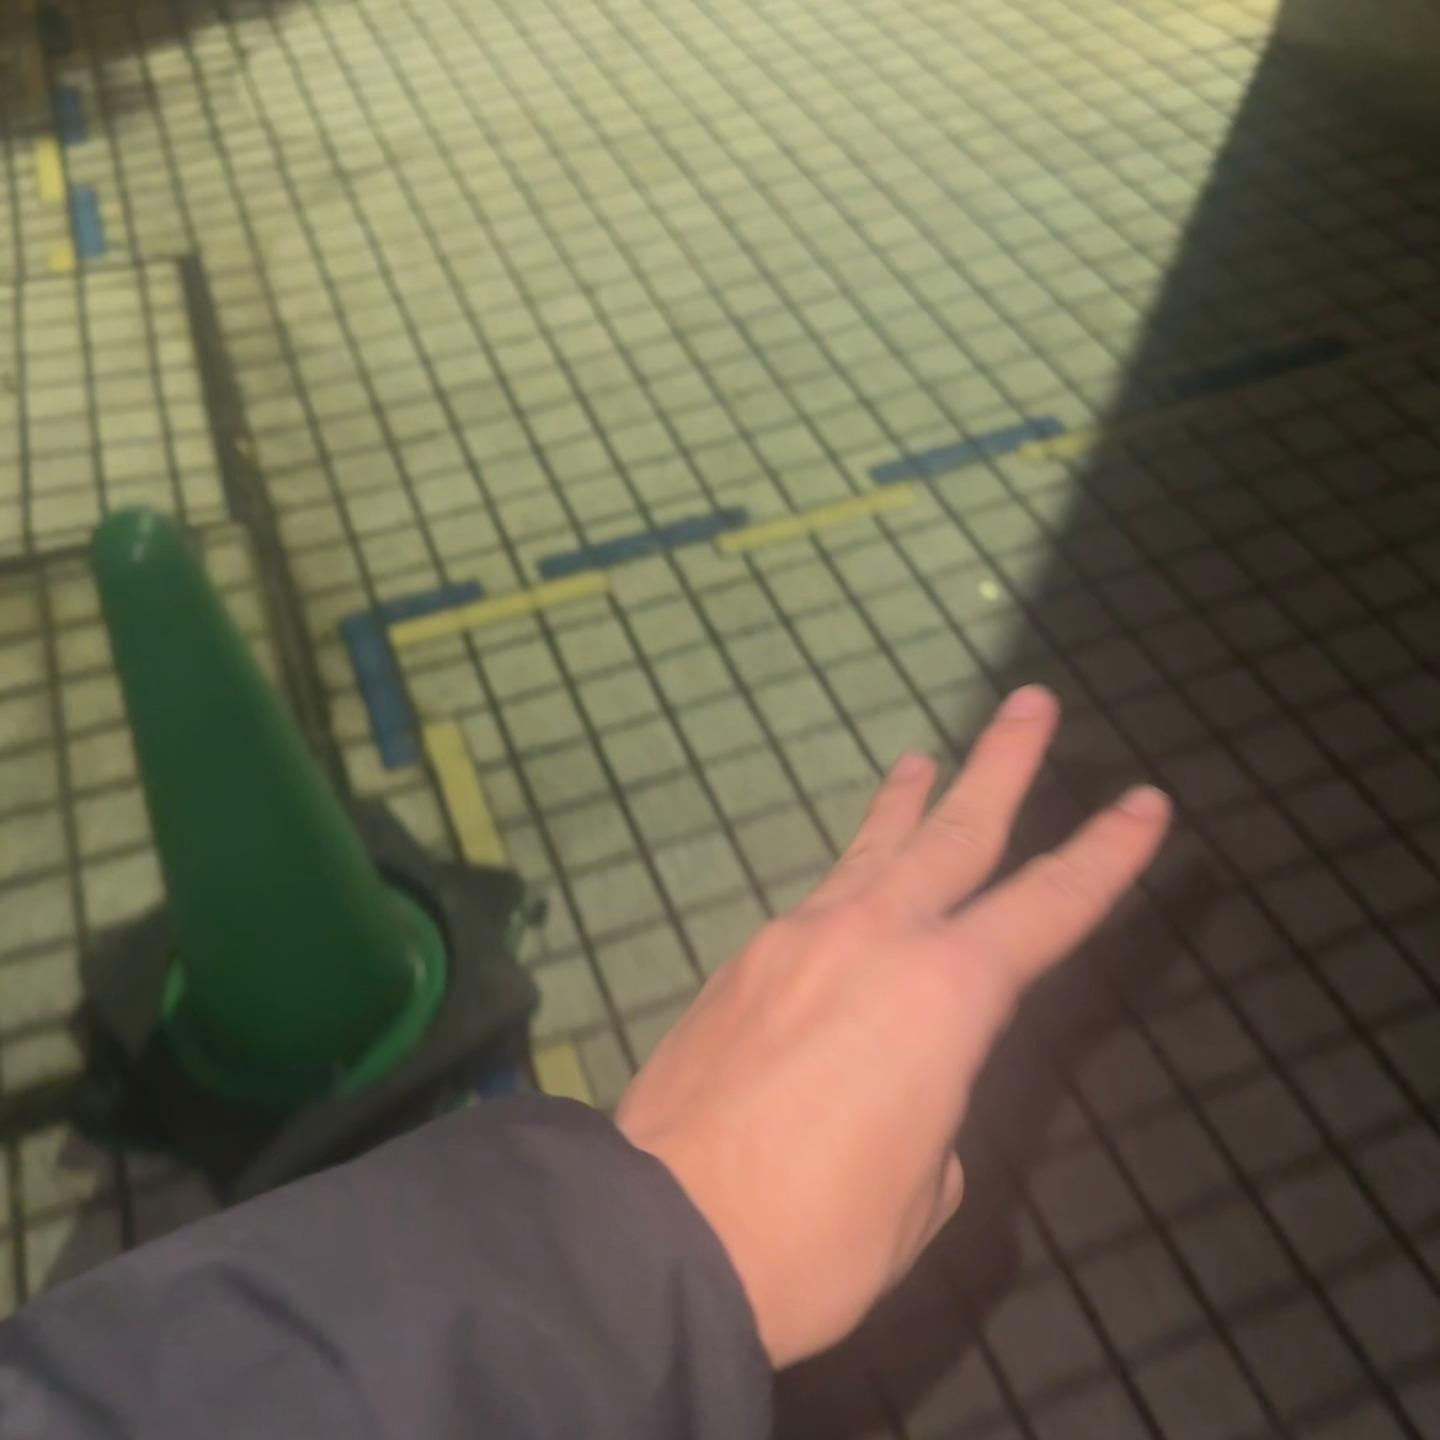without_gloves: (440, 476, 1192, 1325)
